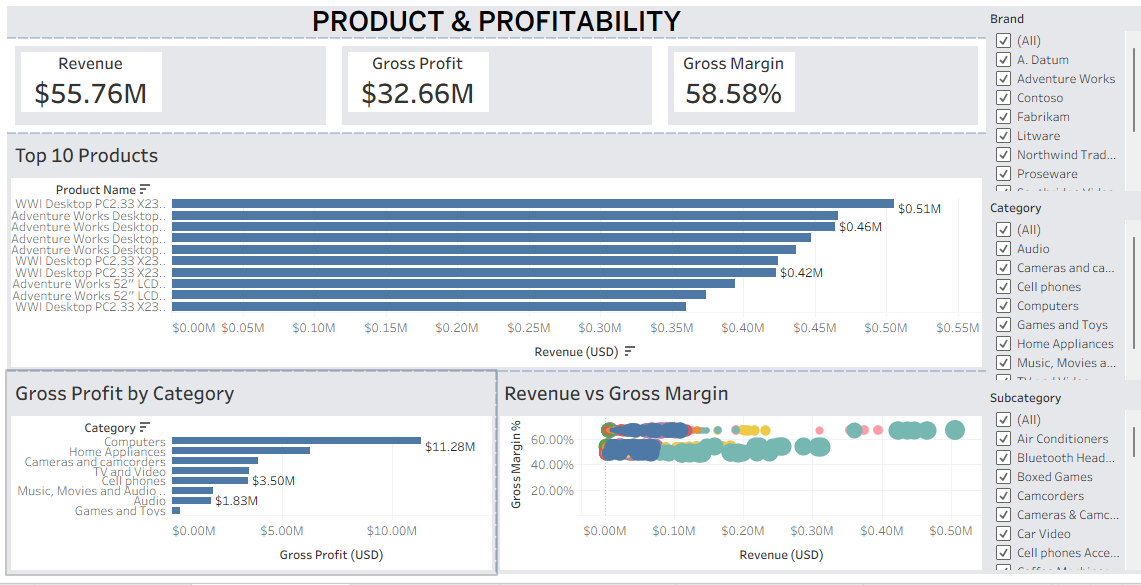

What the dashboard file says about the page in this screenshot:
{"tool":"tableau","page":{"name":"Product & Profitability","canvas":[1000,1000],"units":"permille","ordinal":2},"visuals":[{"type":"text","box":[6.9,13.7,847.6,54.8]},{"type":"filter","title":"Gross Profit by Category","param":"[federated.0h9zmot1fqvaf0160yl9j1oxcu2t].[none:Brand:nk]","box":[854.5,13.7,138.5,324.2]},{"type":"worksheet","title":"KPI — Revenue","mark":"Automatic","box":[6.9,68.5,283.1,162.7]},{"type":"worksheet","title":"KPI - Gross Profit","mark":"Automatic","box":[290,68.5,282.2,162.7]},{"type":"worksheet","title":"KPI - Gross Margin","mark":"Automatic","box":[572.3,68.5,282.3,162.7]},{"type":"worksheet","title":"Top 10 Products","mark":"Automatic","rows":["Product Name"],"cols":["Calculation_0073728170811392"],"box":[6.9,231.2,698.7,407.5]},{"type":"dashboard-object","box":[705.6,231.2,148.9,203.8]},{"type":"filter","title":"Gross Profit by Category","param":"[federated.0h9zmot1fqvaf0160yl9j1oxcu2t].[none:Category:nk]","box":[854.5,337.9,138.5,324.2]},{"type":"dashboard-object","box":[705.6,434.9,148.9,203.8]},{"type":"worksheet","title":"Gross Profit by Category","mark":"Bar","rows":["Category"],"cols":["Calculation_0073728171995138"],"box":[6.9,638.7,423.8,347.6]},{"type":"worksheet","title":"Revenue vs Gross Margin","mark":"Circle","rows":["Calculation_0073728172273667"],"cols":["Calculation_0073728170811392"],"box":[430.7,638.7,423.8,347.6]},{"type":"filter","title":"Gross Profit by Category","param":"[federated.0h9zmot1fqvaf0160yl9j1oxcu2t].[none:Subcategory:nk]","box":[854.5,662.1,138.5,324.2]}]}

Visuals, with their boxes on the dashboard's canvas, which has no fixed pixel size, in thousandths of its width and height (x1, y1, x2, y2). These are canvas units, not pixel positions in the 1141x585 screenshot, which may show the page scaled, cropped or inside an application window:
text: x1=7, y1=14, x2=854, y2=68
"Gross Profit by Category" filter: x1=854, y1=14, x2=993, y2=338
"KPI — Revenue" worksheet: x1=7, y1=68, x2=290, y2=231
"KPI - Gross Profit" worksheet: x1=290, y1=68, x2=572, y2=231
"KPI - Gross Margin" worksheet: x1=572, y1=68, x2=855, y2=231
"Top 10 Products" worksheet: x1=7, y1=231, x2=706, y2=639
dashboard-object: x1=706, y1=231, x2=854, y2=435
"Gross Profit by Category" filter: x1=854, y1=338, x2=993, y2=662
dashboard-object: x1=706, y1=435, x2=854, y2=639
"Gross Profit by Category" worksheet (Bar marks): x1=7, y1=639, x2=431, y2=986
"Revenue vs Gross Margin" worksheet (Circle marks): x1=431, y1=639, x2=854, y2=986
"Gross Profit by Category" filter: x1=854, y1=662, x2=993, y2=986
